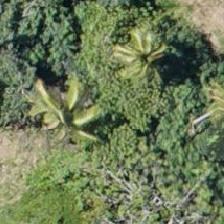coconut_tree: (26, 69, 116, 159), (95, 11, 185, 101)
